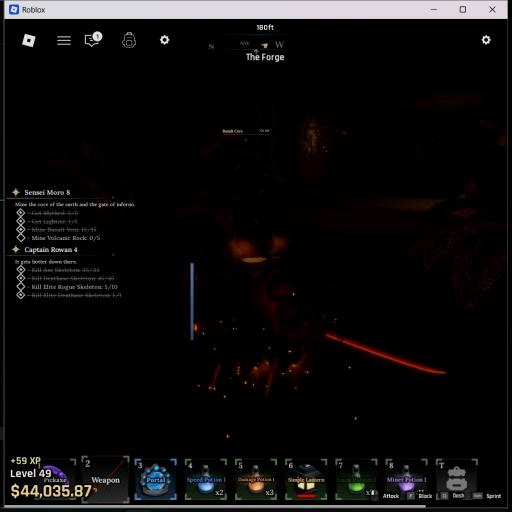player: (194, 222, 352, 387)
rock: (212, 151, 285, 216)
